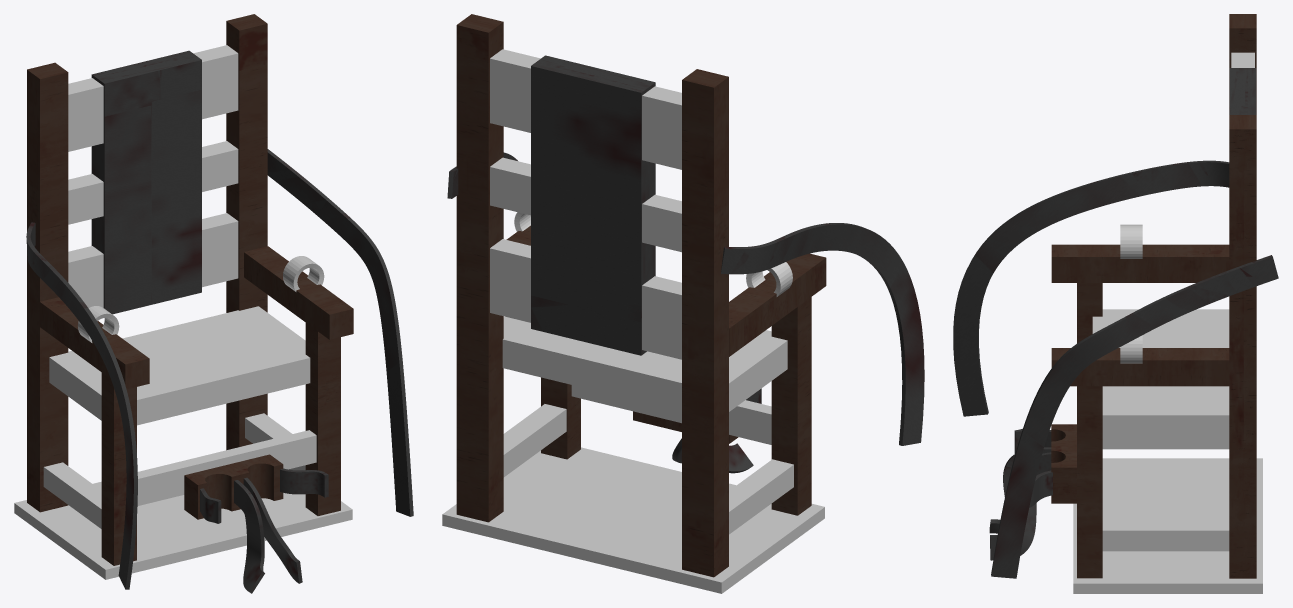
The model's file is Torture_Electric_Chair.fbx.
The picture shows the model from 3 angles, left to right: view 1: azimuth 30°, elevation 25°; view 2: azimuth 150°, elevation 25°; view 3: azimuth 270°, elevation 25°; orthographic projection. The views are drawn at different scales.
Visible parts, largest first — view 1: Torture_Electric_Chair; view 2: Torture_Electric_Chair; view 3: Torture_Electric_Chair.
Part boxes in pixels (x1,y1,x2,y2): Torture_Electric_Chair: (14,14,413,593); Torture_Electric_Chair: (442,14,924,593); Torture_Electric_Chair: (953,14,1278,593).
Size of the model in its own units: 2.04 by 2.85 by 1.78.
